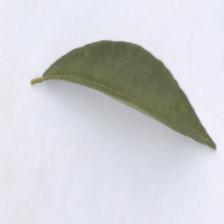healthy: (39, 37, 217, 151)
